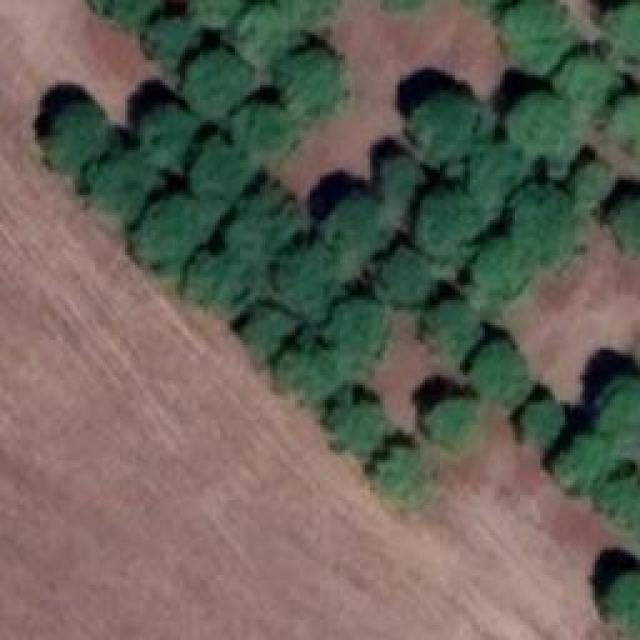Tree: (130, 195, 213, 263), (230, 190, 298, 273), (188, 47, 258, 125), (278, 45, 348, 115), (518, 188, 583, 263), (322, 200, 390, 270), (503, 0, 573, 68), (423, 193, 483, 268), (45, 102, 108, 170), (408, 95, 483, 150), (190, 138, 255, 201), (508, 98, 573, 161), (273, 348, 353, 398), (278, 240, 338, 305), (235, 102, 300, 160), (328, 300, 388, 360), (592, 475, 640, 548), (385, 242, 445, 300), (468, 342, 528, 400), (190, 253, 248, 313), (475, 147, 525, 215), (238, 310, 293, 368), (93, 158, 156, 208), (327, 400, 385, 453), (143, 10, 203, 60), (555, 55, 615, 105), (235, 5, 290, 58), (555, 435, 608, 488), (143, 105, 193, 160), (375, 448, 425, 501), (475, 243, 523, 298), (430, 300, 475, 358), (383, 160, 423, 225), (600, 378, 640, 443), (602, 572, 640, 640), (425, 400, 473, 445), (605, 0, 640, 58), (523, 398, 566, 441), (610, 197, 640, 255), (607, 97, 640, 147), (575, 165, 608, 198)
